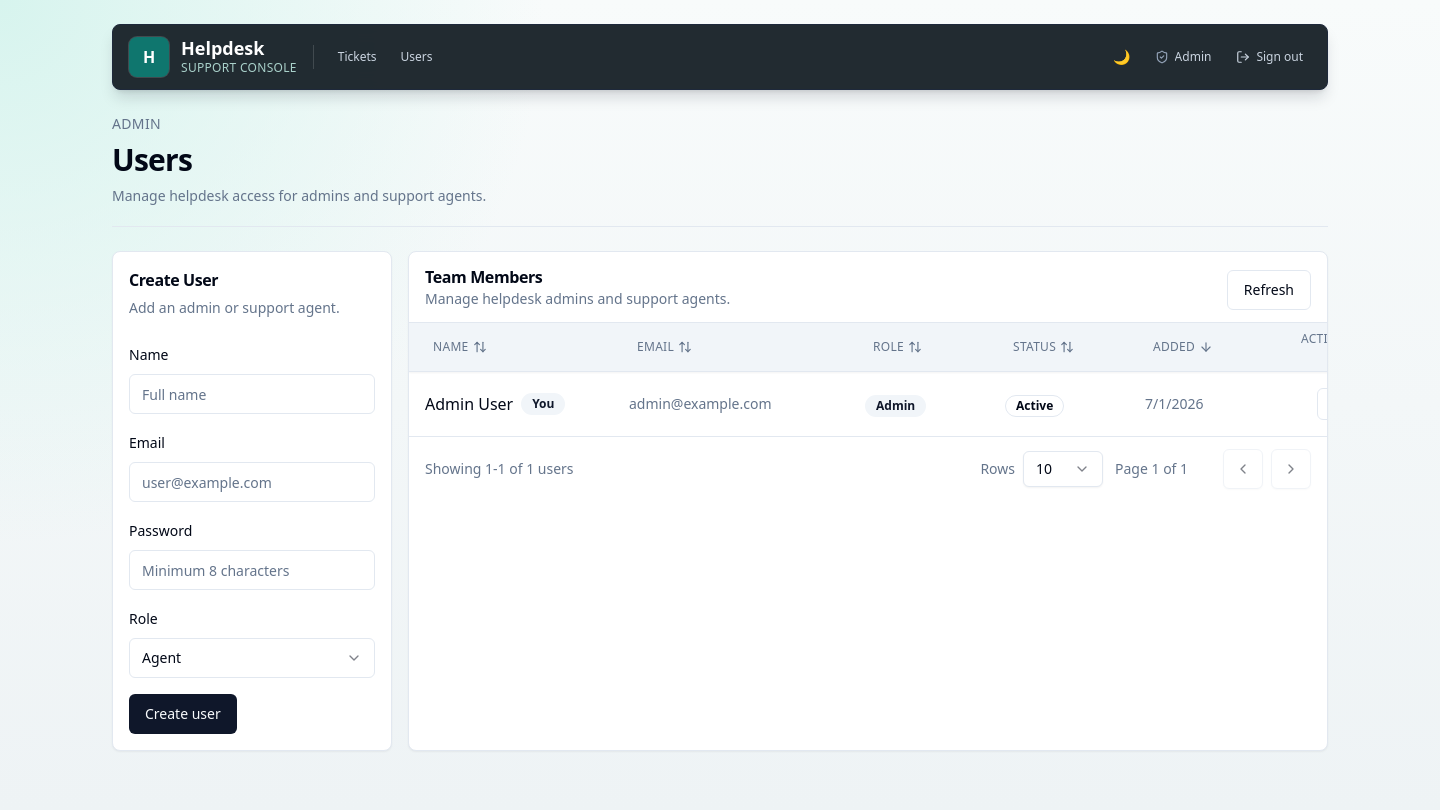
Test: Users page › refreshes the users query from the refresh button
The width and height of the screenshot is (1440, 810).
Expected: the text "admin@example.com" is shown, [629,394,772,413]
Expected: the text "Agent User" is not shown
Click the button "Refresh": click(1269, 290) [1227,270,1311,310]
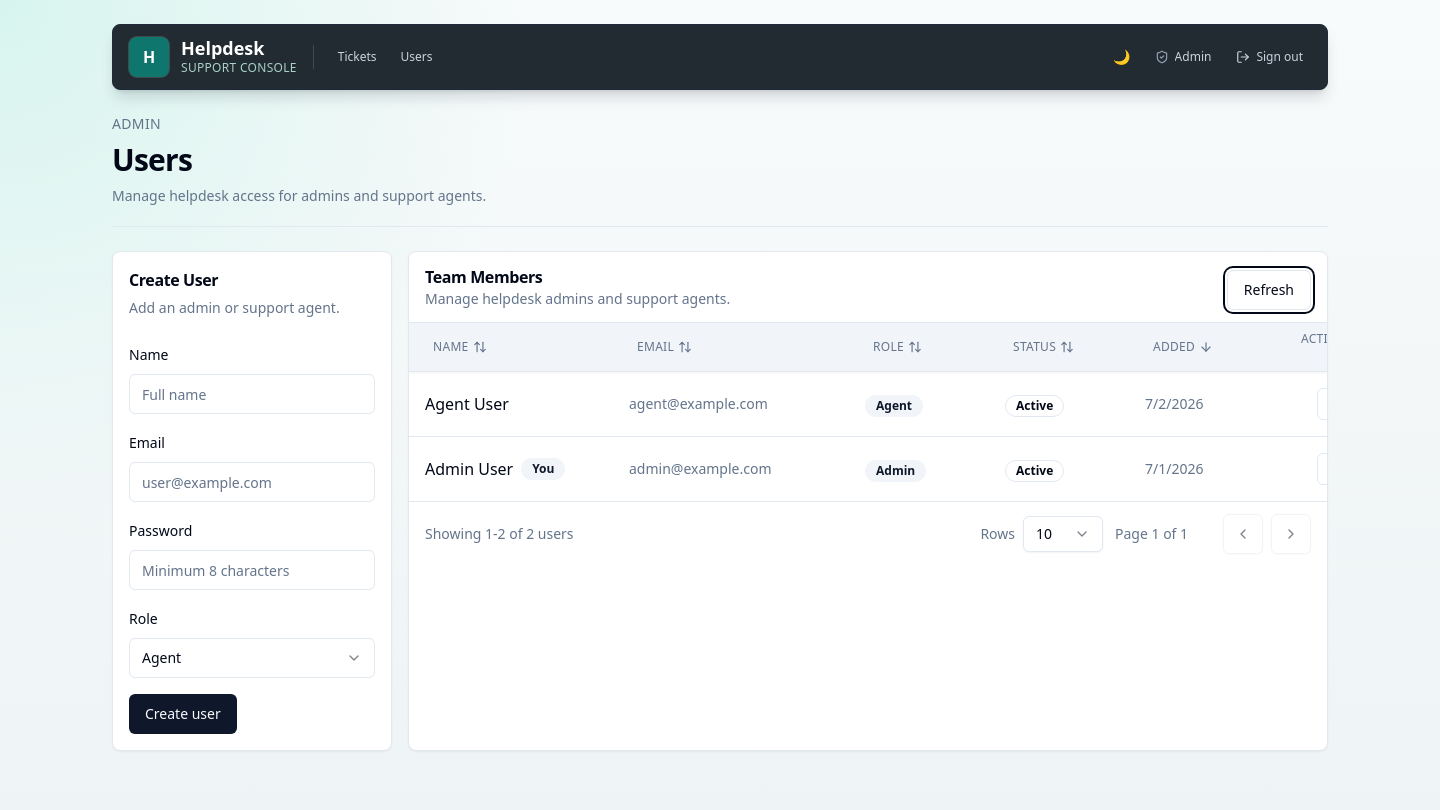
Expected: the heading "Agent User" is shown, [425,392,509,416]
